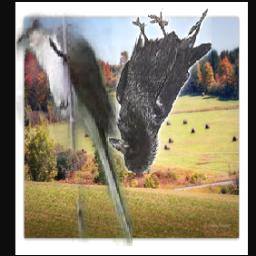Crow: (108, 9, 212, 174)
Cuckoo: (16, 7, 133, 247)
